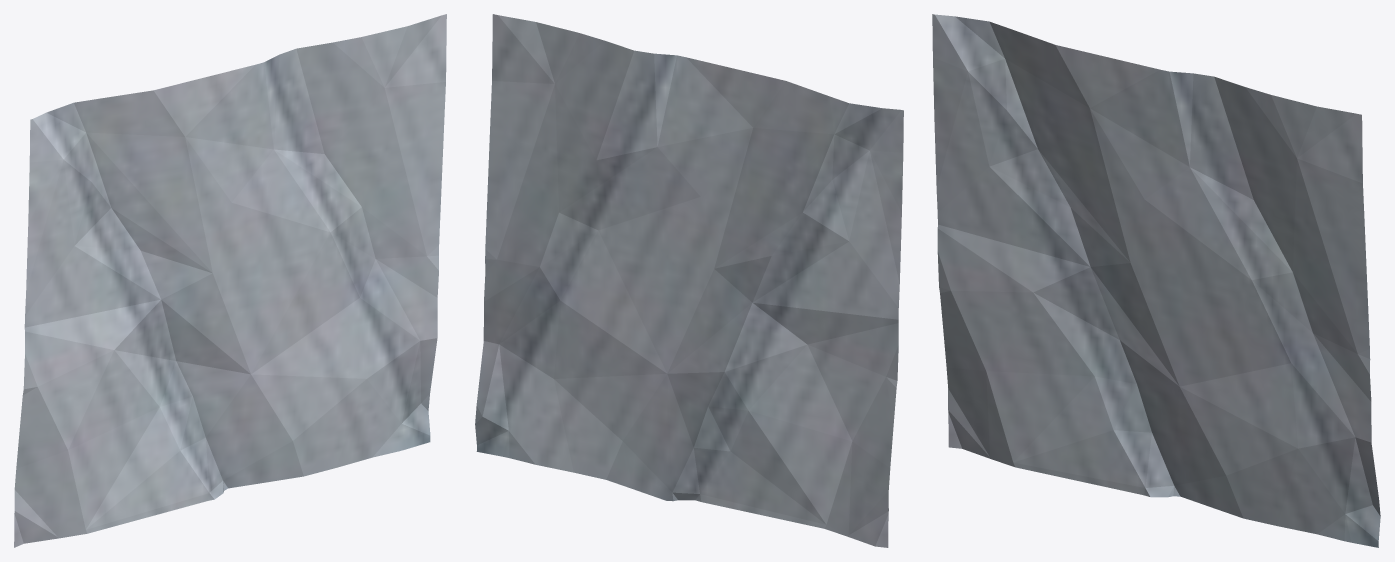
The model's file is Tile_+001_+005_L24_0031021.obj.
3 renders of one model, left to right at view 1: azimuth 30°, elevation 25°; view 2: azimuth 150°, elevation 25°; view 3: azimuth 330°, elevation 25°, orthographic. The views are drawn at different scales.
Size of the model in its own units: 0.9531 by 0.9531 by 0.096.
1 material, 1 textured.
